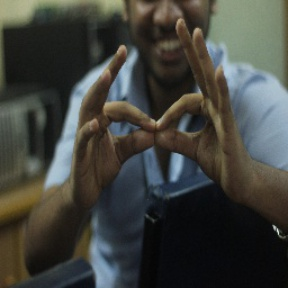B: (89, 82, 221, 176)
